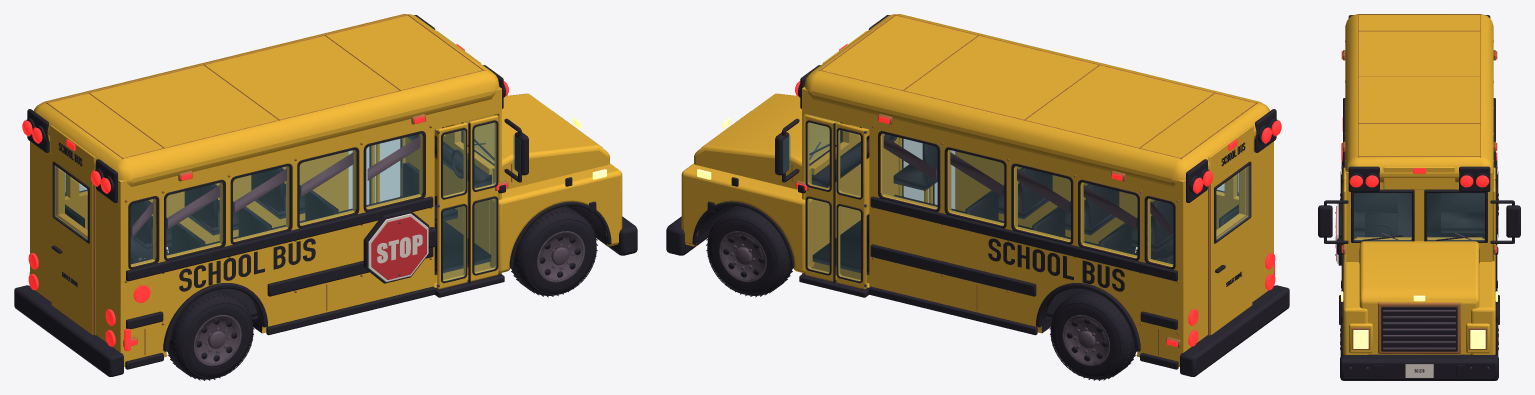
The model's file is veh.school-bus.glb.
3 views of the same model, side by side, from view 1: azimuth 30°, elevation 25°; view 2: azimuth 150°, elevation 25°; view 3: azimuth 270°, elevation 25° (orthographic). The views are drawn at different scales.
Visible parts, largest first — view 1: body, wheelRR, wheelFR, door_near_0:pal_backpackTeal, door_near_1:pal_backpackTeal, door_near_0:pal_schoolBusYellow, door_near_1:pal_schoolBusYellow, door_near_1:pal_uiDark, door_near_0:pal_uiDark, door_far_1:pal_backpackTeal, object 3, lightsBrake; view 2: body, wheelRL, wheelFL, door_far_0:pal_backpackTeal, door_far_1:pal_backpackTeal, door_far_0:pal_schoolBusYellow, door_far_1:pal_schoolBusYellow, door_far_1:pal_uiDark, door_far_0:pal_uiDark, object 3, lightsBrake; view 3: body, lightsFront, object 3, door_far_1:pal_schoolBusYellow, door_far_1:pal_uiDark, door_near_1:pal_schoolBusYellow, door_near_1:pal_uiDark.
Part boxes in pixels (left/top/right/bottom): body: left=14, top=14, right=637, bottom=376; wheelRR: left=167, top=289, right=254, bottom=380; wheelFR: left=511, top=206, right=597, bottom=297; door_near_0:pal_backpackTeal: left=443, top=130, right=465, bottom=280; door_near_1:pal_backpackTeal: left=474, top=123, right=496, bottom=273; door_near_0:pal_schoolBusYellow: left=437, top=122, right=467, bottom=289; door_near_1:pal_schoolBusYellow: left=469, top=115, right=498, bottom=281; door_near_1:pal_uiDark: left=468, top=120, right=505, bottom=282; door_near_0:pal_uiDark: left=441, top=128, right=467, bottom=283; door_far_1:pal_backpackTeal: left=380, top=139, right=399, bottom=200; object 3: left=22, top=81, right=508, bottom=193; lightsBrake: left=28, top=253, right=115, bottom=346; body: left=666, top=14, right=1289, bottom=376; wheelRL: left=1049, top=289, right=1136, bottom=380; wheelFL: left=706, top=206, right=792, bottom=297; door_far_0:pal_backpackTeal: left=838, top=130, right=860, bottom=280; door_far_1:pal_backpackTeal: left=807, top=123, right=829, bottom=273; door_far_0:pal_schoolBusYellow: left=836, top=122, right=866, bottom=289; door_far_1:pal_schoolBusYellow: left=805, top=115, right=834, bottom=281; door_far_1:pal_uiDark: left=798, top=120, right=835, bottom=282; door_far_0:pal_uiDark: left=836, top=128, right=862, bottom=283; object 3: left=795, top=81, right=1281, bottom=193; lightsBrake: left=1188, top=253, right=1275, bottom=346; body: left=1318, top=14, right=1520, bottom=380; lightsFront: left=1353, top=330, right=1485, bottom=348; object 3: left=1349, top=175, right=1489, bottom=187; door_far_1:pal_schoolBusYellow: left=1492, top=180, right=1495, bottom=262; door_far_1:pal_uiDark: left=1495, top=179, right=1498, bottom=305; door_near_1:pal_schoolBusYellow: left=1343, top=180, right=1346, bottom=262; door_near_1:pal_uiDark: left=1340, top=179, right=1343, bottom=305.
Size of the model in its own units: 8.03 by 3.42 by 3.3.
